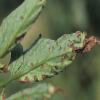Tomato leaf bacterial spot: (8, 29, 99, 89)
